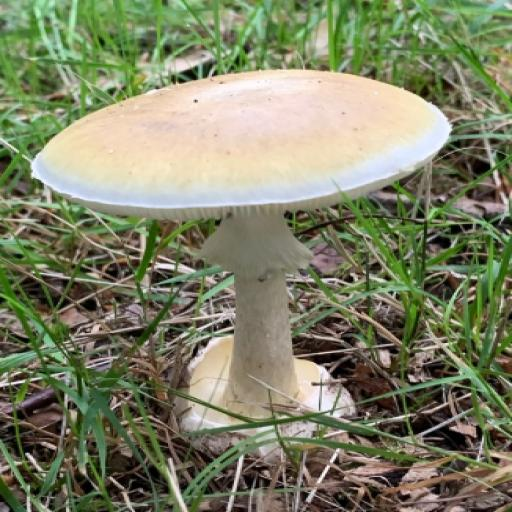Death Cap: (0, 0, 446, 448)
